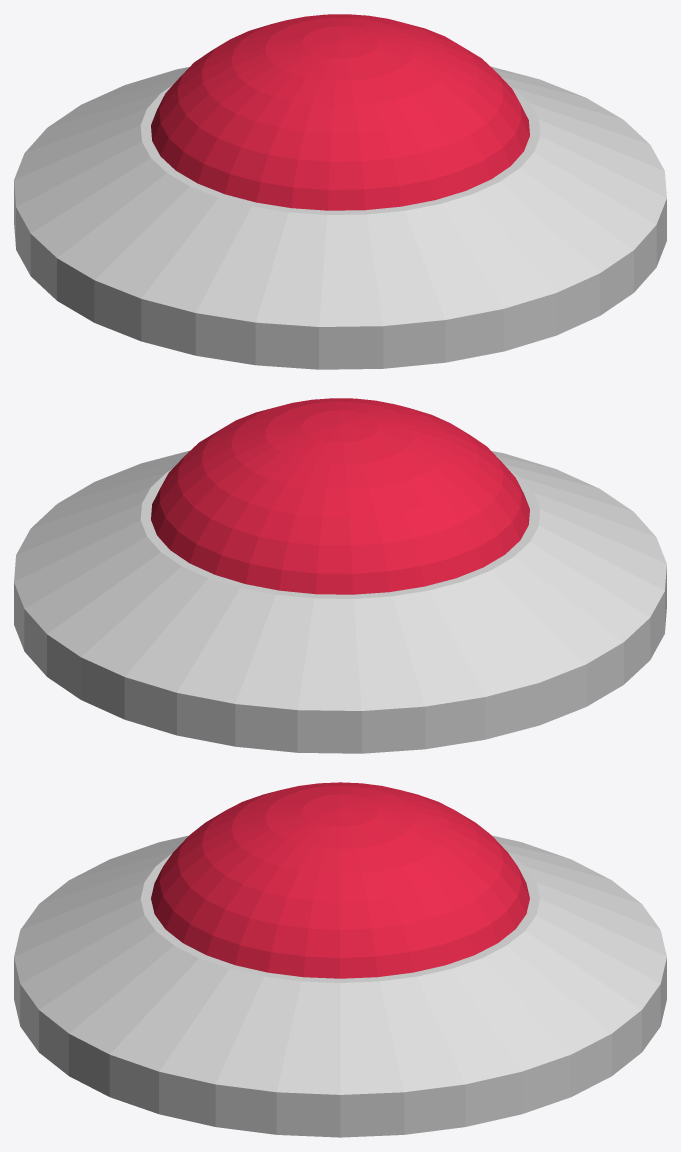
Rendered from Spaceshipfi.fbx.
The picture shows the model from 3 angles, top to bottom: view 1: azimuth 30°, elevation 25°; view 2: azimuth 150°, elevation 25°; view 3: azimuth 270°, elevation 25°; orthographic projection.
Visible parts, largest first — view 1: Sphere; view 2: Sphere; view 3: Sphere.
Boxes of the visible parts, bbox=[...] form: Sphere: bbox=[14, 14, 666, 369]; Sphere: bbox=[14, 398, 666, 753]; Sphere: bbox=[14, 782, 666, 1137].
Bounding box in the file's own units: 500 × 205 × 500.
